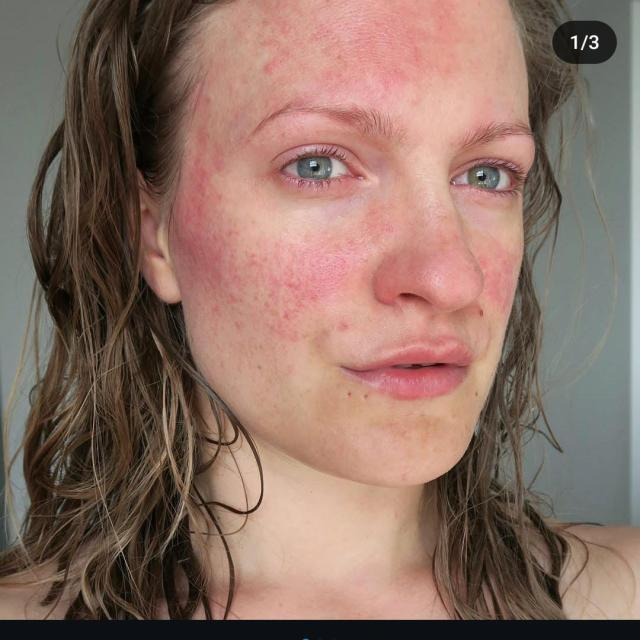Rosacea: (177, 170, 350, 337), (261, 7, 409, 109)
